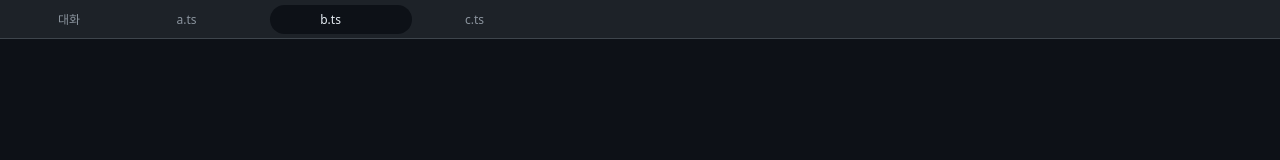
Test: 탭 우클릭 닫기 메뉴 › 파일 탭을 우클릭하면 닫기 갈래 넷이 뜬다
Right-click the text "b.ts": (341, 19) [270,4,412,34]
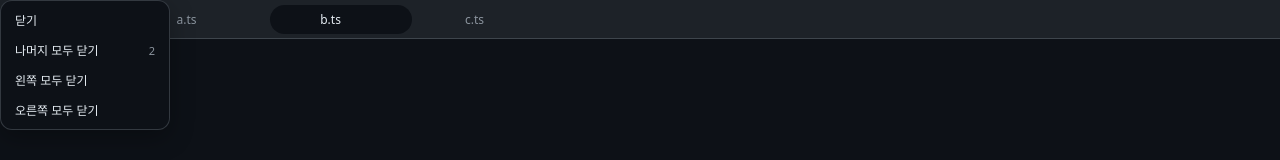
Expected: the menu items read "닫기", "나머지 모두 닫기2", "왼쪽 모두 닫기", "오른쪽 모두 닫기", in this order, [5,5,165,35]; [5,35,165,65]; [5,65,165,95]; [5,95,165,125]
